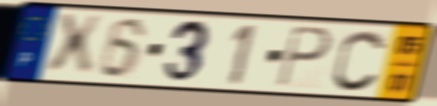1: (227, 22, 258, 86)
3: (162, 17, 213, 86)
6: (97, 17, 150, 80)
C: (331, 27, 390, 94)
P: (275, 24, 334, 90)
X: (45, 13, 106, 78)
